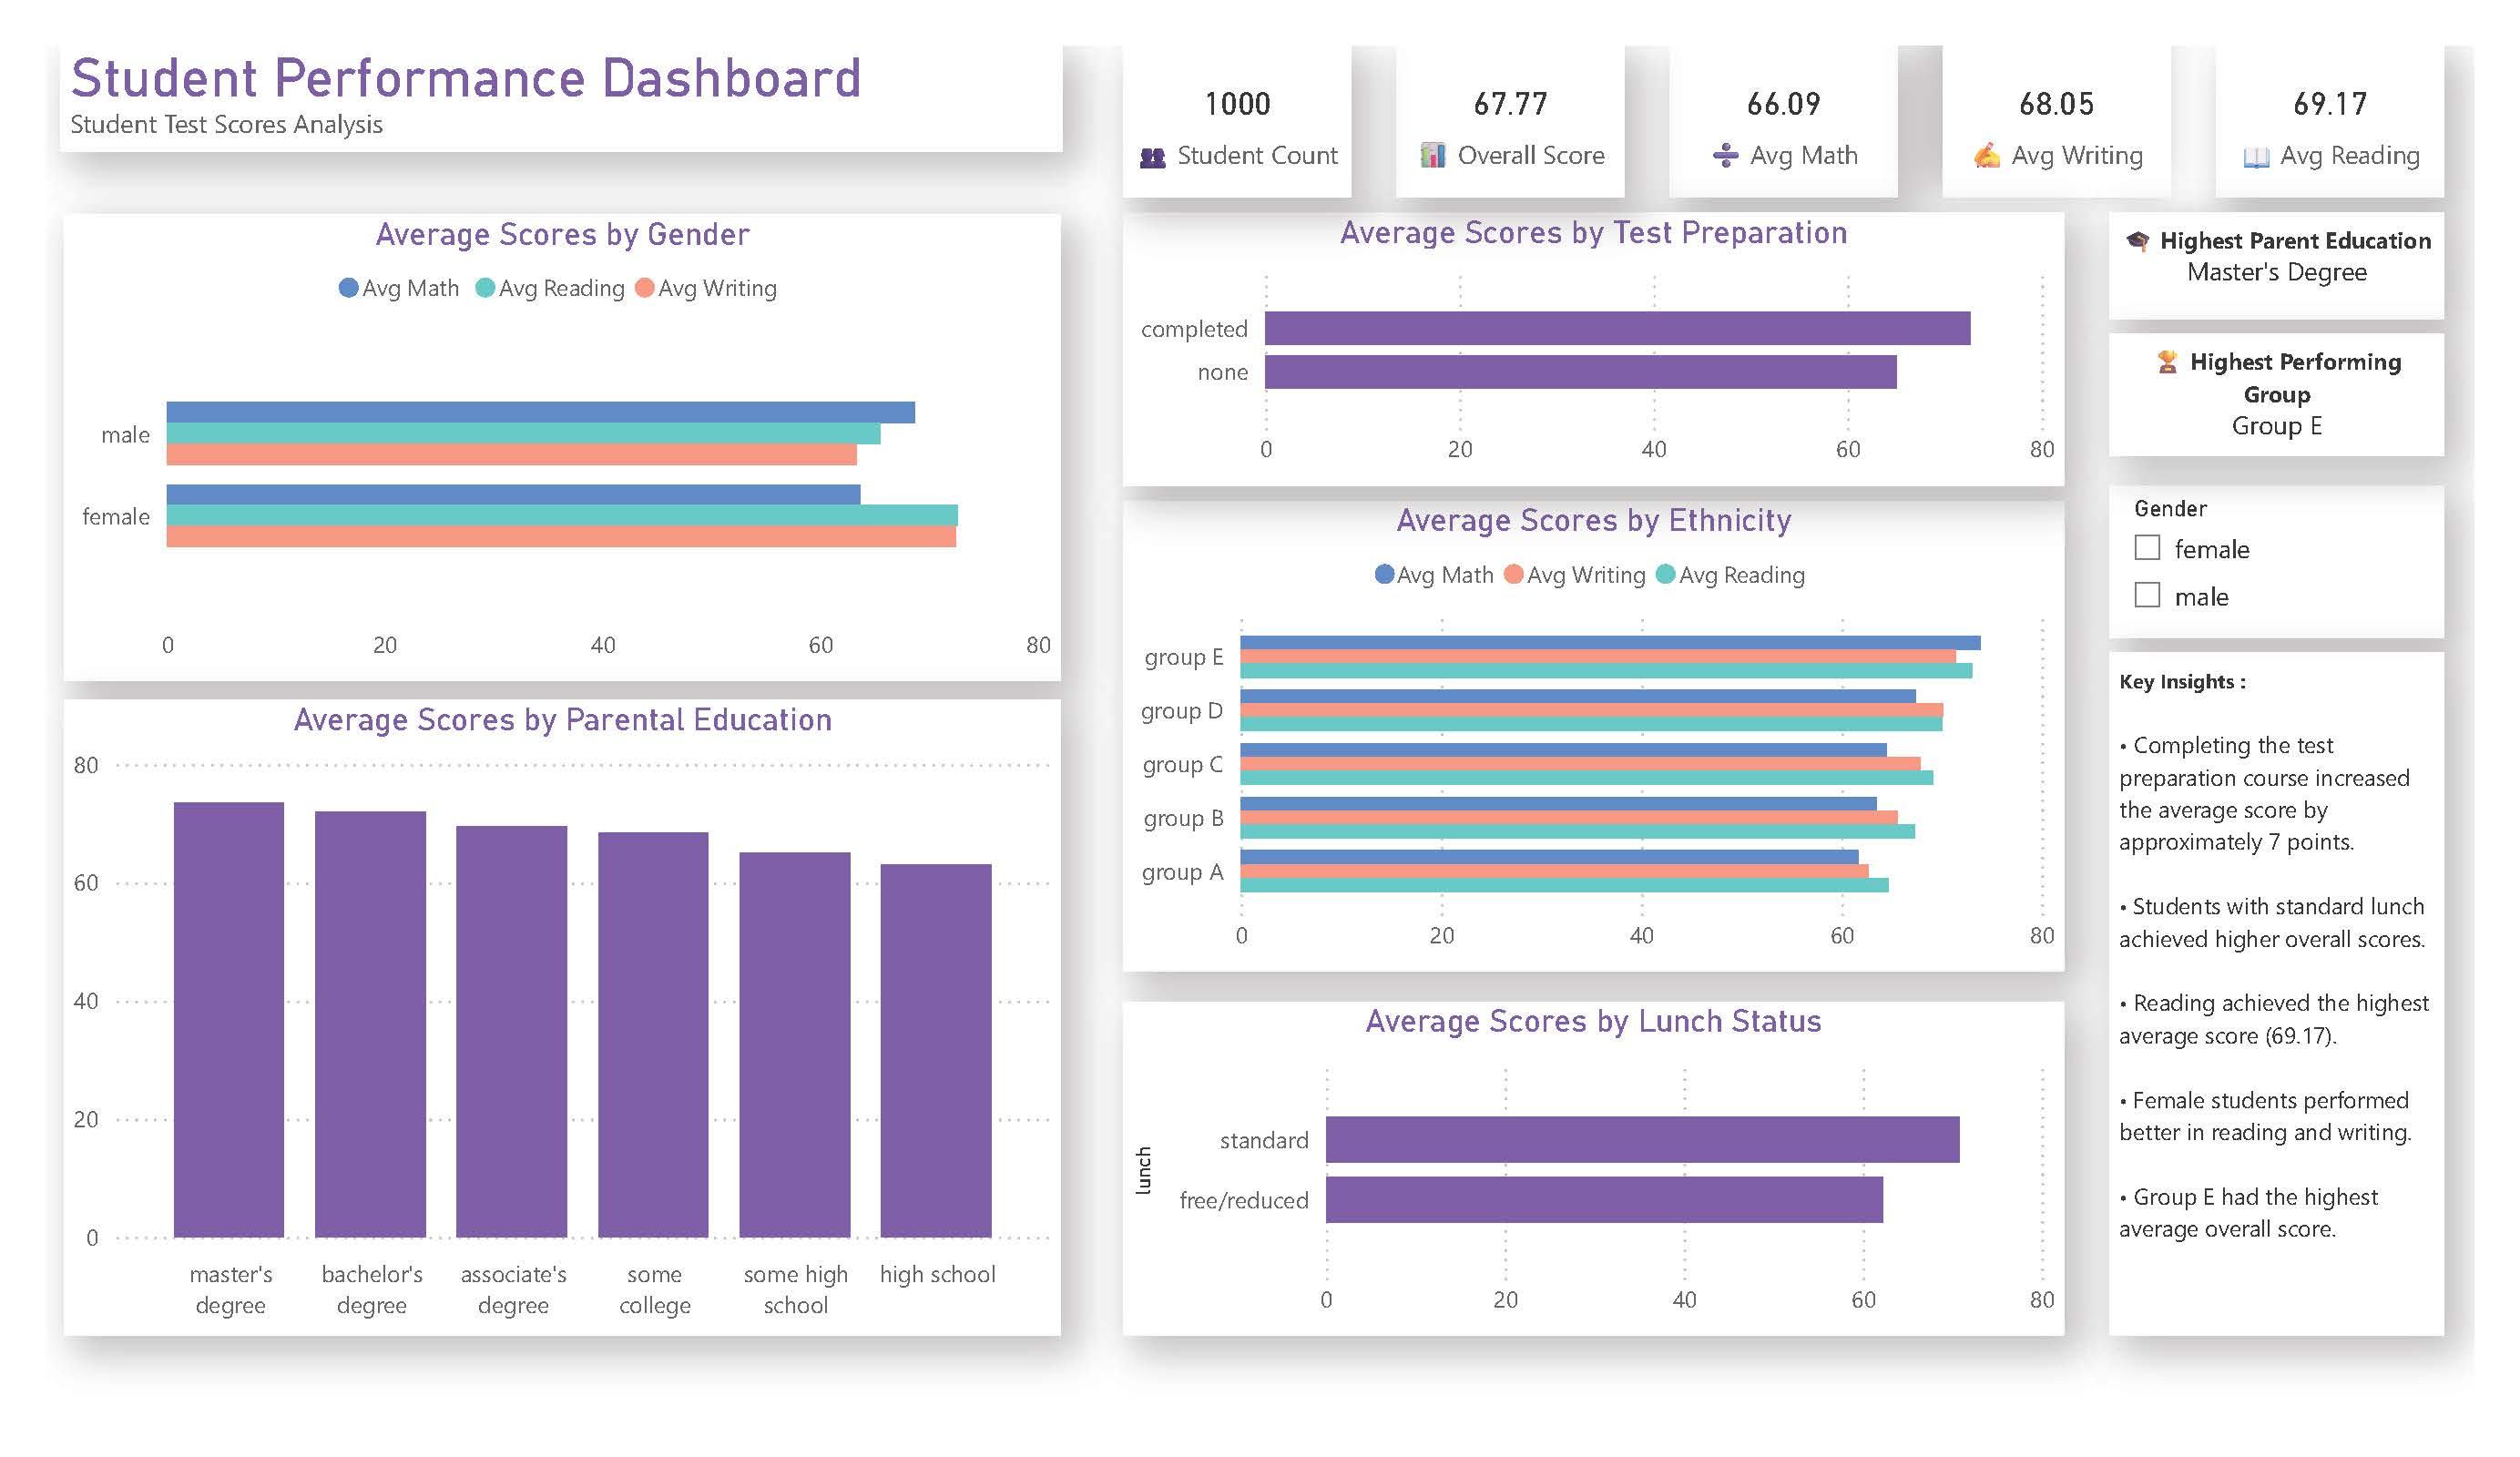

The dashboard page shown, as its layout file describes it:
{"tool":"powerbi","page":{"name":"Page 1","canvas":[1280,720],"ordinal":0},"visuals":[{"type":"clusteredBarChart","title":"Average Scores by Gender","fields":{"Category":["StudentsPerformance.gender"],"Y":["Avg(StudentsPerformance.math score)","Avg(StudentsPerformance.reading score)","Avg(StudentsPerformance.writing score)"]},"box":[10,89,525,246],"z":0},{"type":"clusteredColumnChart","title":"Average Scores by Parental Education","fields":{"Category":["StudentsPerformance.parental level of education"],"Y":["Avg(StudentsPerformance.Overall Average Score)"]},"box":[10,345,525,335],"z":1000},{"type":"clusteredBarChart","title":"Average Scores by Ethnicity","fields":{"Category":["StudentsPerformance.race/ethnicity"],"Y":["Avg(StudentsPerformance.math score)","Avg(StudentsPerformance.writing score)","Avg(StudentsPerformance.reading score)"]},"box":[568,240,496,248],"z":2000},{"type":"card","fields":{"Values":["Avg(StudentsPerformance.math score)"]},"box":[848,0,128,80],"z":3000},{"type":"card","fields":{"Values":["Avg(StudentsPerformance.reading score)"]},"box":[1144,0,120,80],"z":4000},{"type":"card","fields":{"Values":["Avg(StudentsPerformance.writing score)"]},"box":[1000,0,120,80],"z":5000},{"type":"barChart","title":"Average Scores by Test Preparation","fields":{"Category":["StudentsPerformance.test preparation course"],"Y":["Avg(StudentsPerformance.Overall Average Score)"]},"box":[568,88,496,144],"z":6000},{"type":"slicer","fields":{"Values":["StudentsPerformance.gender"]},"box":[1088,232,176,80],"z":7000},{"type":"clusteredBarChart","title":"Average Scores by Lunch Status","fields":{"Category":["StudentsPerformance.lunch"],"Y":["Avg(StudentsPerformance.Overall Average Score)"]},"box":[568,504,496,176],"z":8000},{"type":"card","fields":{"Values":["Avg(StudentsPerformance.Overall Average Score)"]},"box":[712,0,120,80],"z":9000},{"type":"card","fields":{"Values":["StudentsPerformance.Student Count"]},"box":[568,0,120,80],"z":10000},{"type":"textbox","box":[1088,320,176,360],"z":11000},{"type":"textbox","title":"Student Performance Dashboard","box":[8,0,528,56],"z":12000},{"type":"textbox","box":[1088,88,176,56],"z":13000},{"type":"textbox","box":[1088,152,176,64],"z":14000}]}

Visuals, with their boxes on the page's 1280x720 design canvas (x1, y1, x2, y2). These are canvas units, not pixel positions in the 2520x1457 screenshot, which may show the page scaled, cropped or inside an application window:
"Average Scores by Gender" clusteredBarChart: Rect(10, 89, 535, 335)
"Average Scores by Parental Education" clusteredColumnChart: Rect(10, 345, 535, 680)
"Average Scores by Ethnicity" clusteredBarChart: Rect(568, 240, 1064, 488)
card - Avg(StudentsPerformance.math score): Rect(848, 0, 976, 80)
card - Avg(StudentsPerformance.reading score): Rect(1144, 0, 1264, 80)
card - Avg(StudentsPerformance.writing score): Rect(1000, 0, 1120, 80)
"Average Scores by Test Preparation" barChart: Rect(568, 88, 1064, 232)
slicer - StudentsPerformance.gender: Rect(1088, 232, 1264, 312)
"Average Scores by Lunch Status" clusteredBarChart: Rect(568, 504, 1064, 680)
card - Avg(StudentsPerformance.Overall Average Score): Rect(712, 0, 832, 80)
card - StudentsPerformance.Student Count: Rect(568, 0, 688, 80)
textbox: Rect(1088, 320, 1264, 680)
"Student Performance Dashboard" textbox: Rect(8, 0, 536, 56)
textbox: Rect(1088, 88, 1264, 144)
textbox: Rect(1088, 152, 1264, 216)
